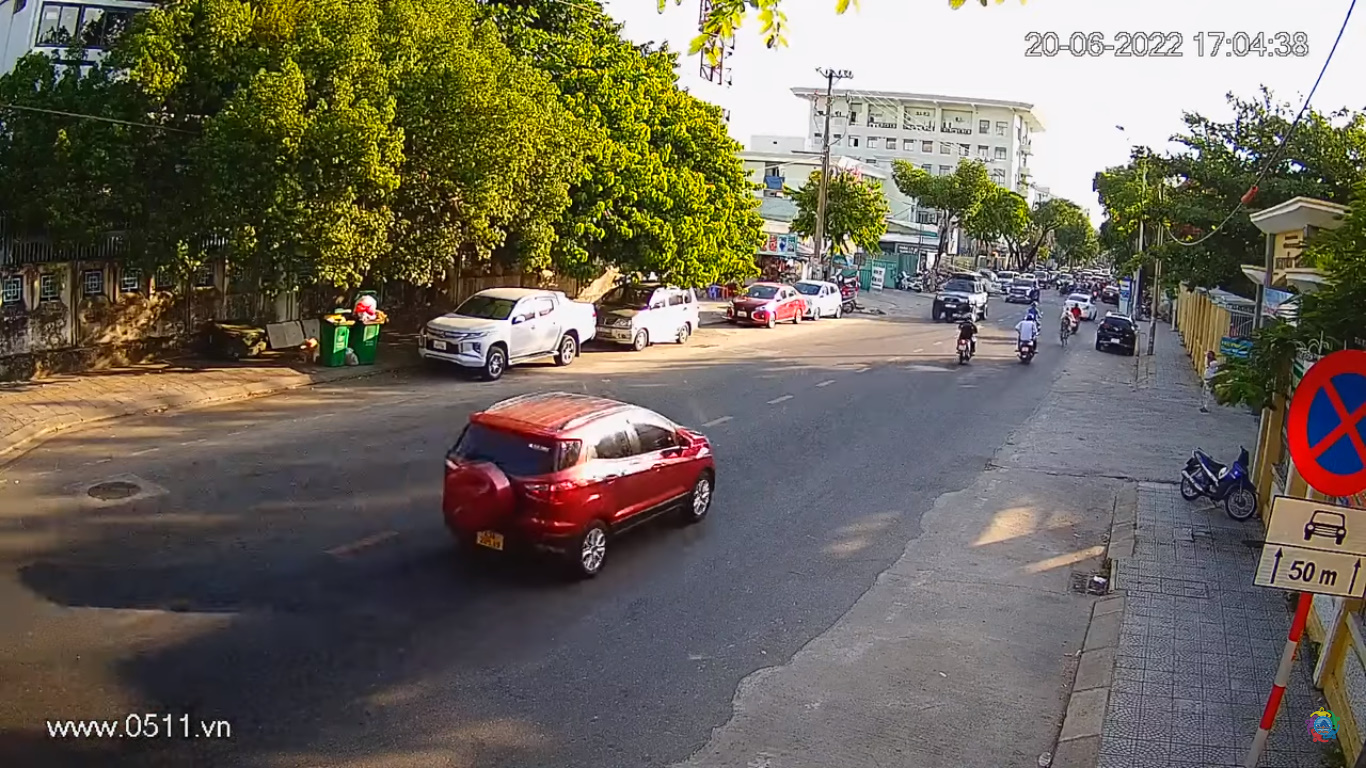car: (447, 394, 719, 569)
